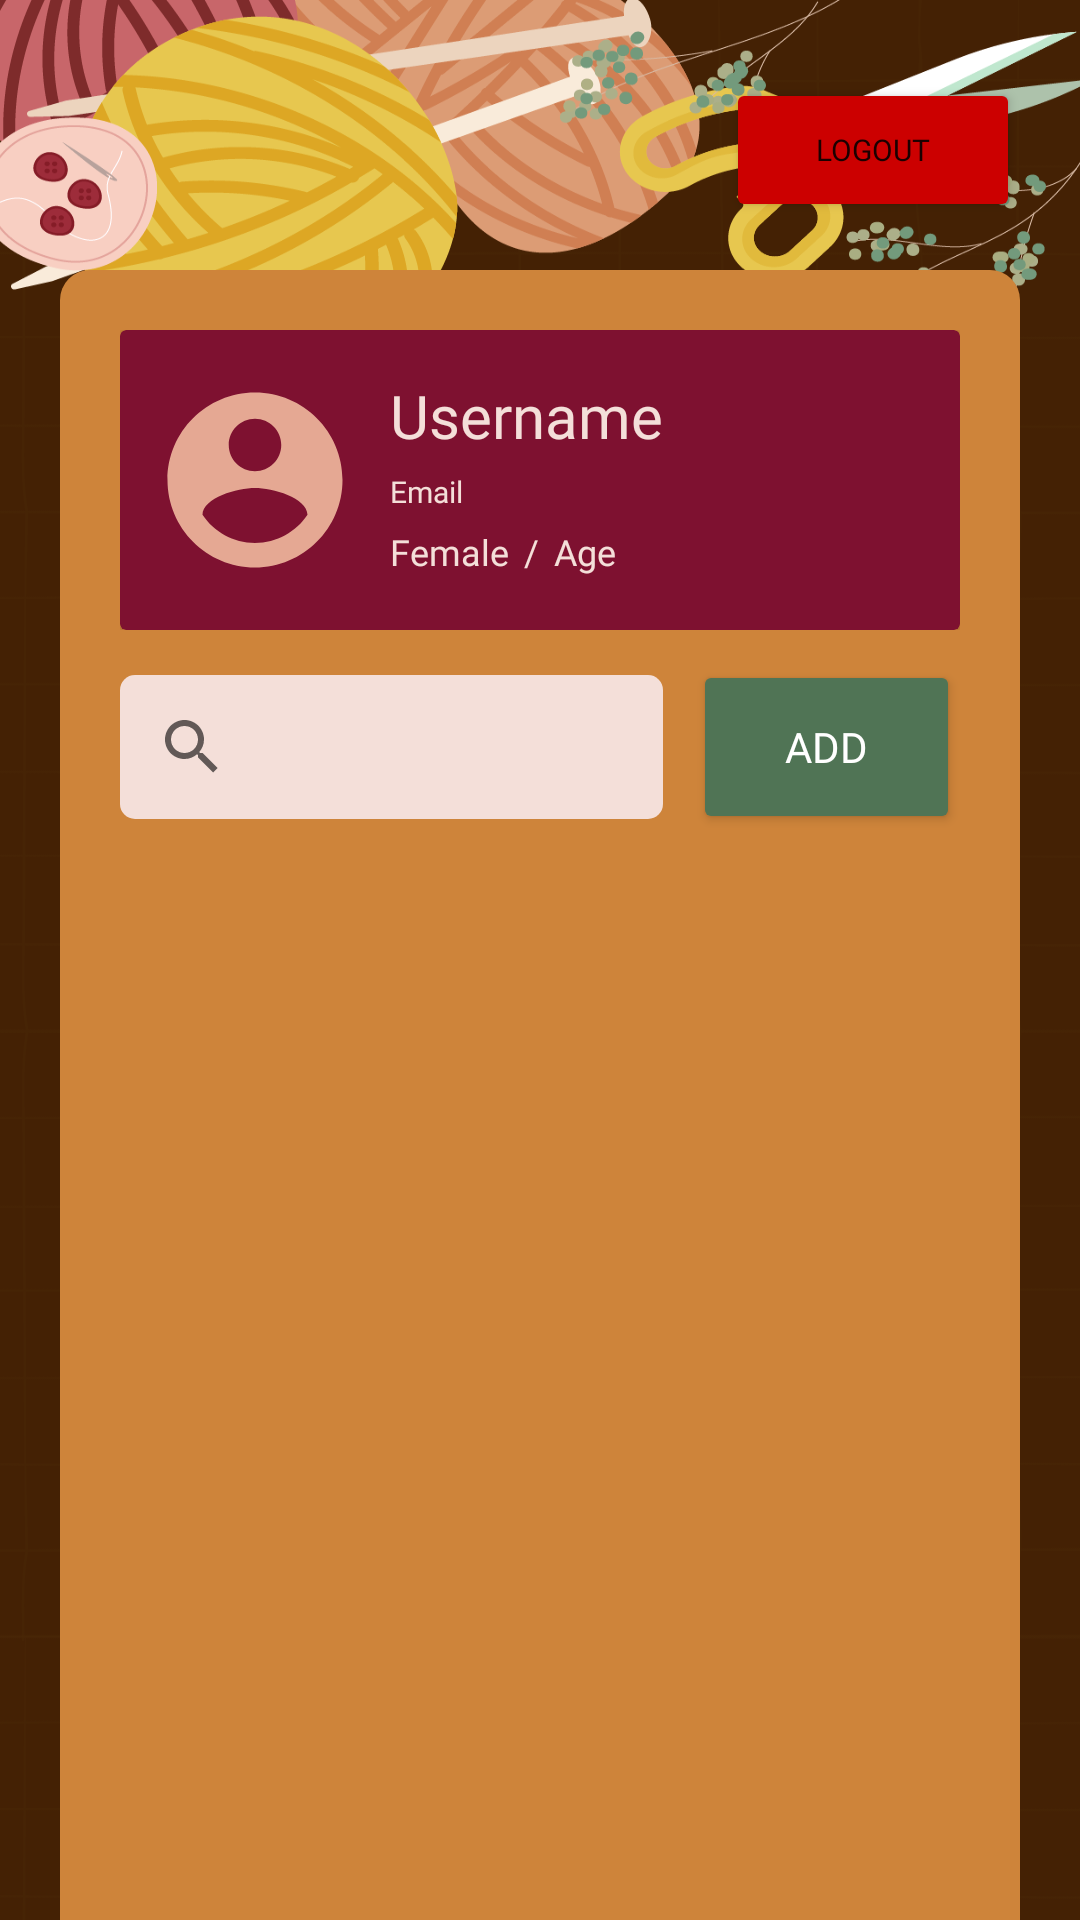

Icons on this 1080w x 1920h Android screen, each with its box as (x1, y1, x2, y2):
uname: (167, 392, 343, 568)
